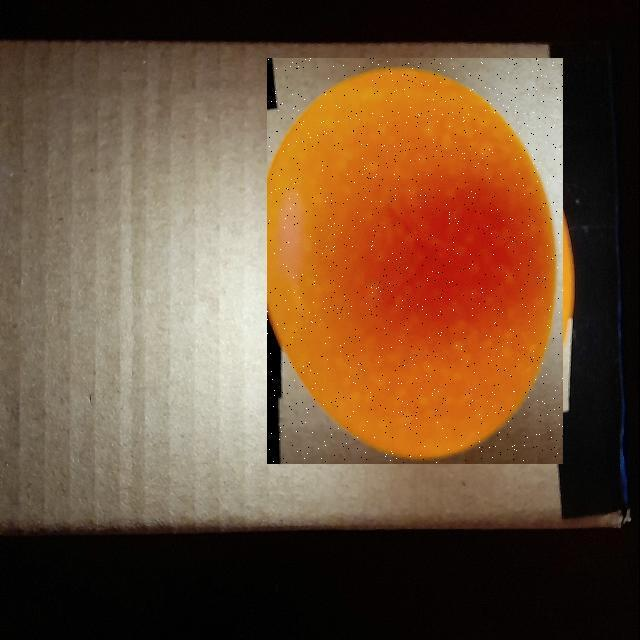Inedible: (257, 66, 564, 459)
